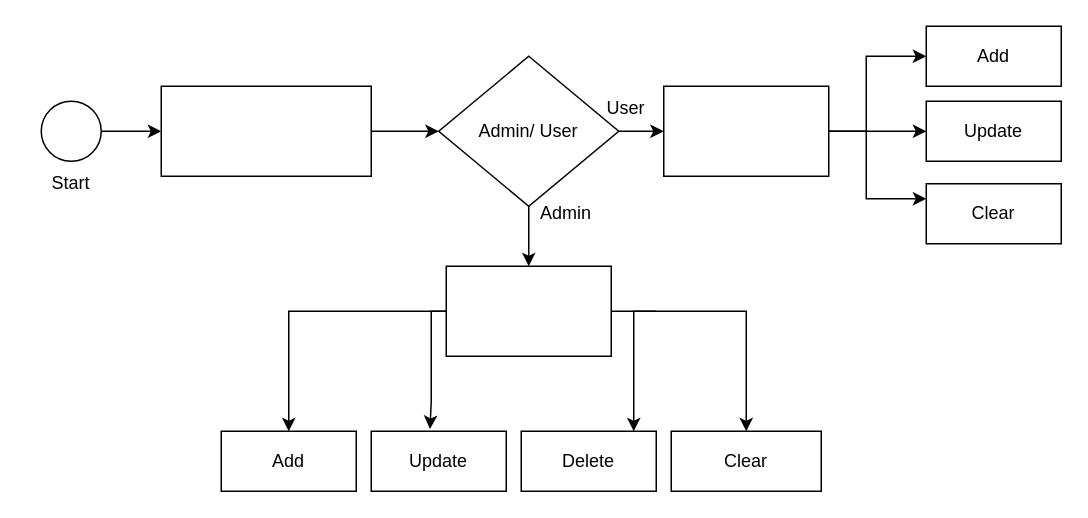
The diagram is 1088 pixels wide and 518 high, and some of its shapes have lost their labels. Each missing label, with the centre of its shape:
Full Level Access: [528,310]
Login Page: [265,130]
Restricted Access: [745,130]
